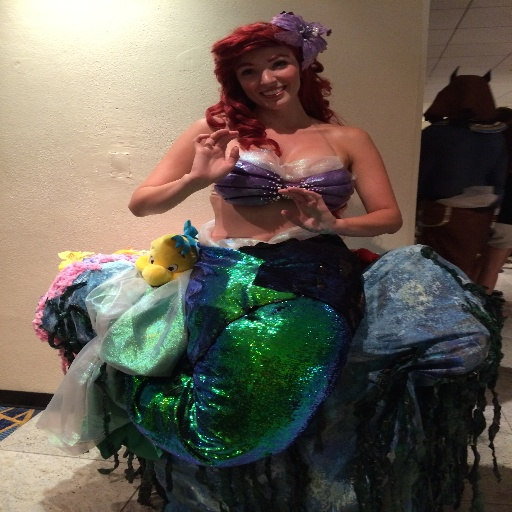hand: (281, 186, 337, 235), (183, 140, 242, 181)
